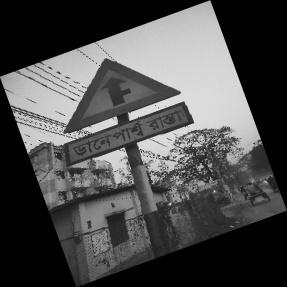Side-road-right: (57, 59, 194, 167)
